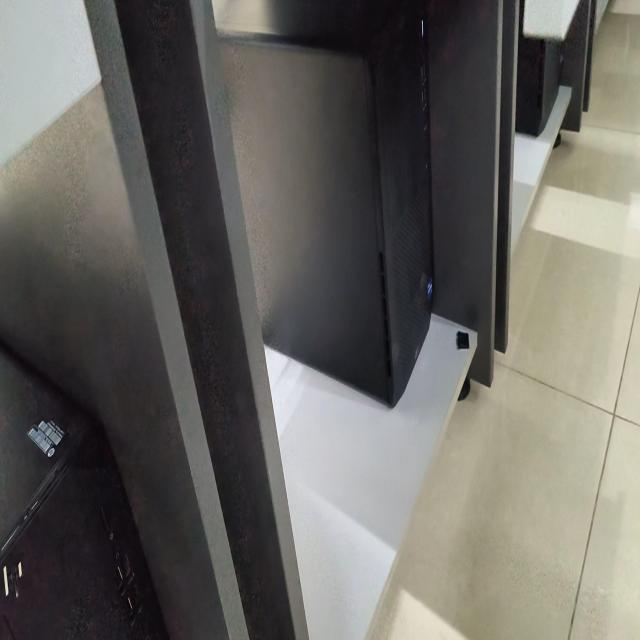Cpu: (217, 0, 434, 406), (0, 348, 167, 639), (516, 37, 561, 136)
